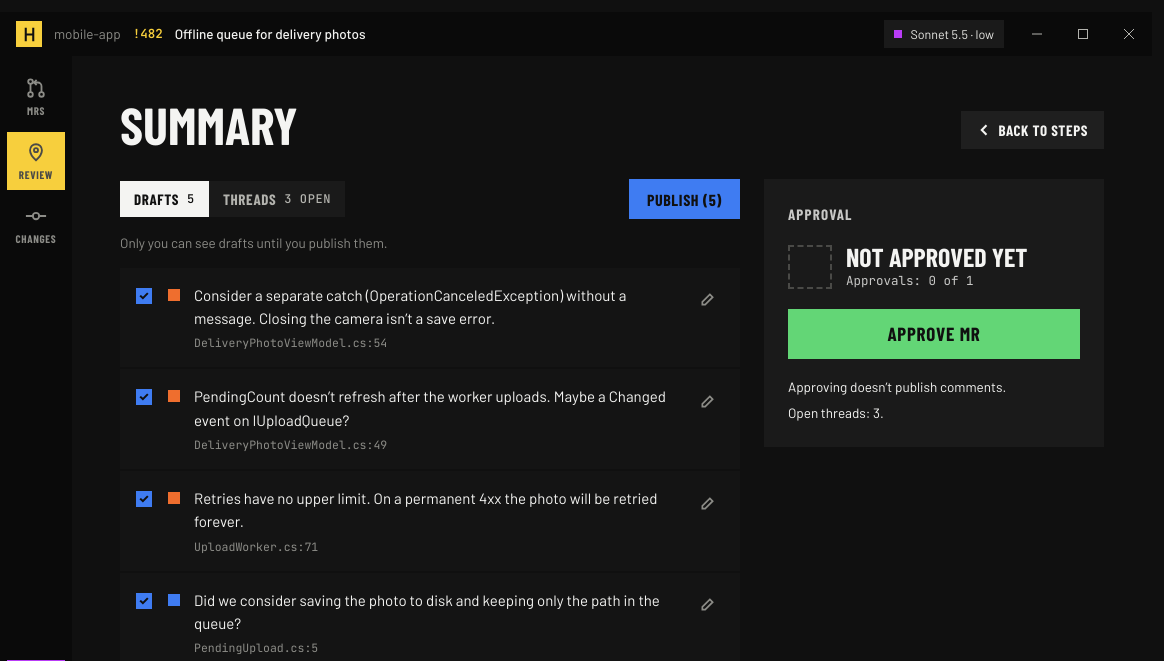
S-05 include in publish (F-12.3) › F-12.3 a refused include leaves the checkbox as it was and says why in an alert
Click the checkbox named "Publish comment 2" at x=145, y=397, box [136,389,154,405]
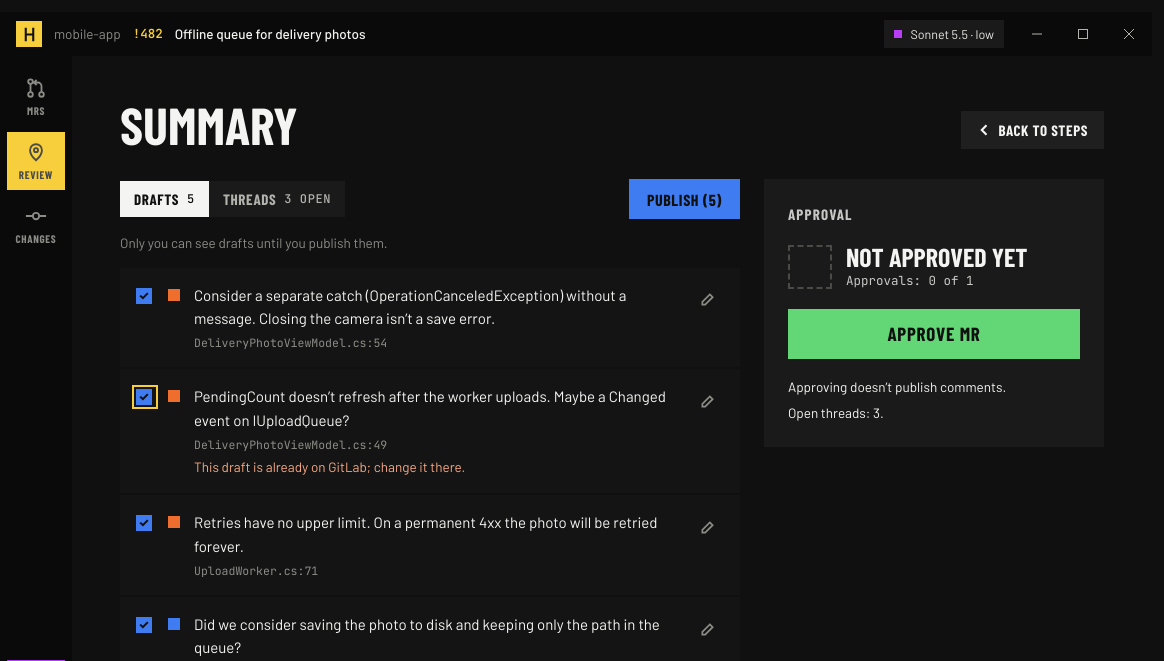
Now the message reads "This draft is already on GitLab; change it there.", box [194,458,465,475]
